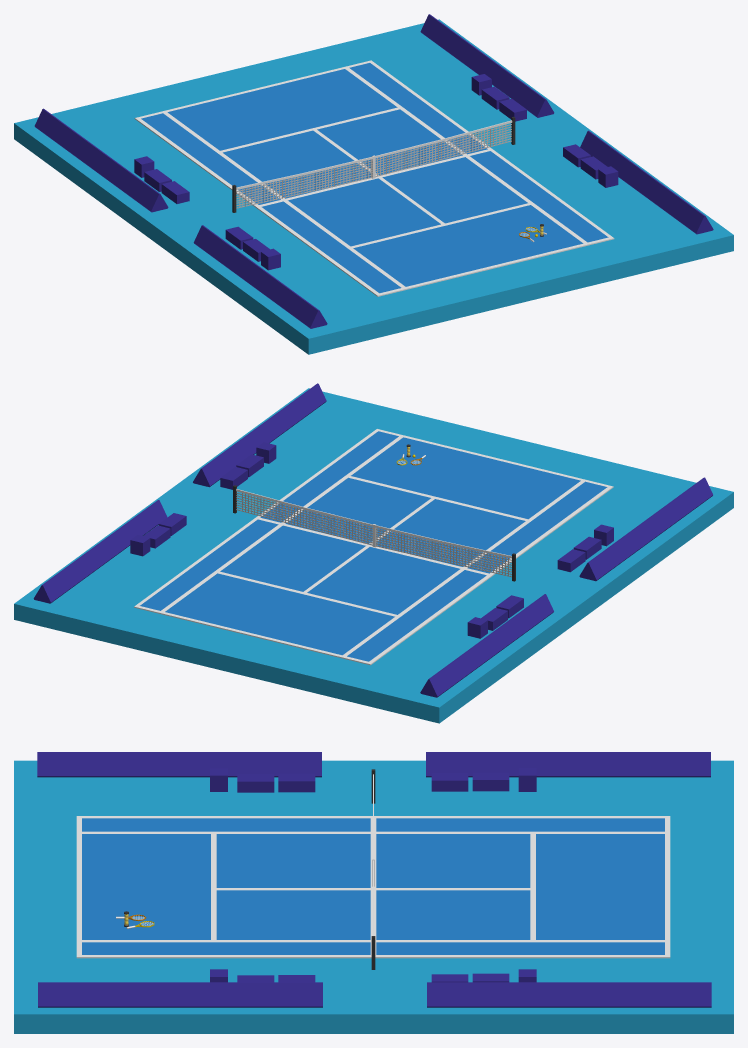
Rendered from tennis_court.glb.
3 renders of one model, top to bottom at view 1: azimuth 30°, elevation 25°; view 2: azimuth 150°, elevation 25°; view 3: azimuth 270°, elevation 25°, orthographic. The views are drawn at different scales.
Visible parts, largest first — view 1: Box172, Plane034, Plane035, Box173, Box189, Box190, Box175; view 2: Box172, Plane034, Plane035, Box173, Box189, Box190, Box175; view 3: Box172, Plane034, Box175, Box190, Box173, Box189, Box179, Box180, Box177, Box182.
Part boxes in pixels (box(x1,y1,x2,y2)): Box172: box(14, 19, 733, 354); Plane034: box(134, 60, 614, 296); Plane035: box(236, 120, 512, 208); Box173: box(193, 225, 327, 328); Box189: box(34, 108, 168, 212); Box190: box(420, 14, 554, 117); Box175: box(580, 130, 713, 234); Box172: box(14, 388, 733, 723); Plane034: box(134, 429, 613, 665); Plane035: box(236, 489, 511, 577); Box173: box(579, 477, 712, 581); Box189: box(420, 594, 553, 697); Box190: box(33, 500, 167, 603); Box175: box(193, 383, 326, 487); Box172: box(14, 760, 733, 1033); Plane034: box(76, 816, 670, 958); Box175: box(38, 982, 322, 1007); Box190: box(427, 982, 711, 1007); Box173: box(37, 752, 321, 777); Box189: box(426, 752, 710, 777); Box179: box(278, 773, 315, 792); Box180: box(472, 772, 509, 791); Box177: box(237, 774, 274, 792); Box182: box(431, 773, 468, 791).
Size of the model in its own units: 16.69 by 1.64 by 20.02.
